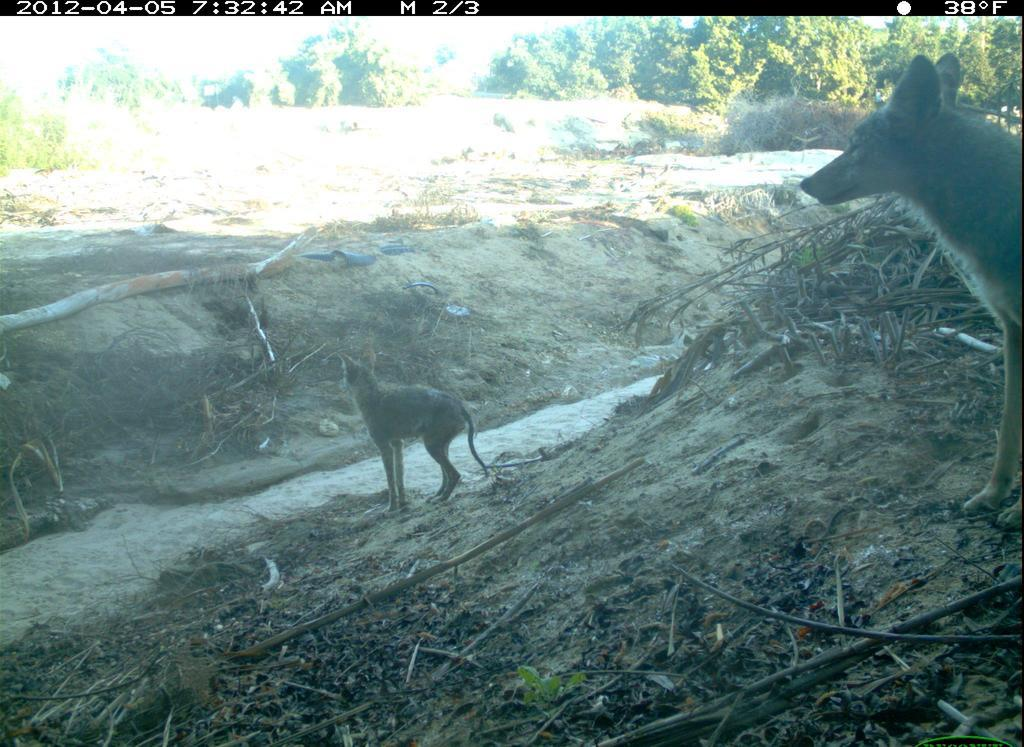coyote: (795, 49, 1023, 529), (332, 337, 501, 514)
